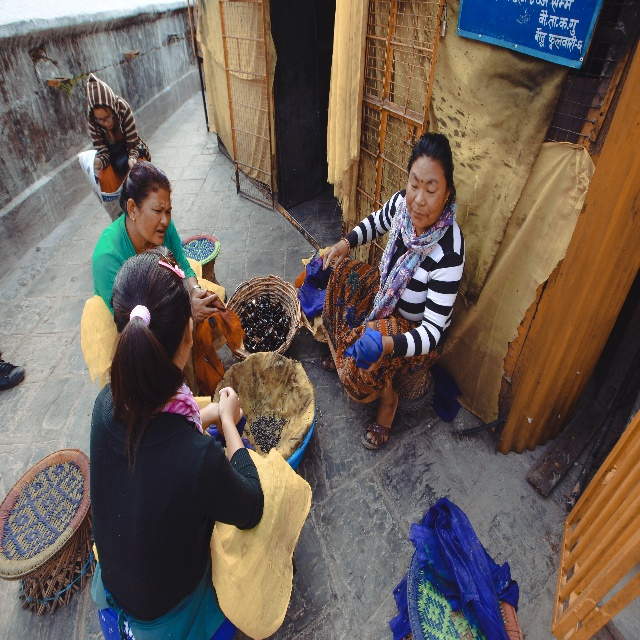Gafas: (95, 114, 112, 123)
Sin_guantes: (217, 385, 242, 427), (192, 285, 220, 321), (321, 236, 349, 271)
